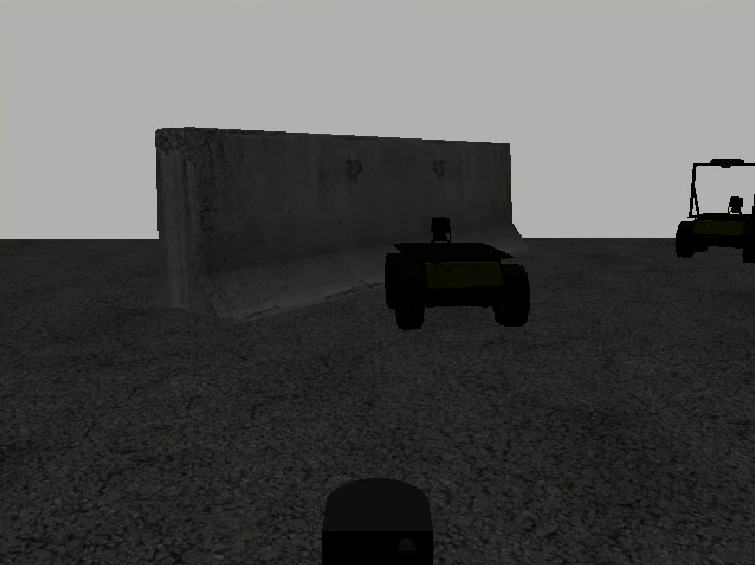husky: (384, 242, 531, 331), (675, 213, 755, 263)
